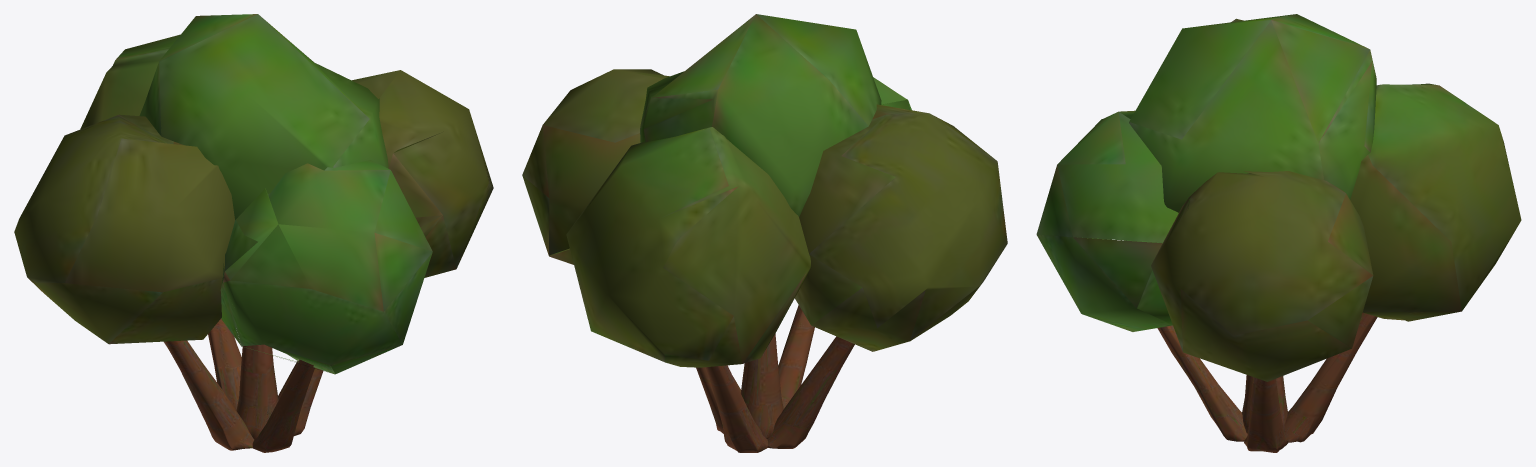
The model's file is 44-bush.glb.
3 views of the same model, side by side, from view 1: azimuth 30°, elevation 25°; view 2: azimuth 150°, elevation 25°; view 3: azimuth 270°, elevation 25° (orthographic).
Visible parts, largest first — view 1: geometry_0; view 2: geometry_0; view 3: geometry_0.
Boxes of the visible parts, x1=… form: geometry_0: x1=14, y1=14, x2=493, y2=452; geometry_0: x1=522, y1=14, x2=1007, y2=452; geometry_0: x1=1036, y1=14, x2=1521, y2=452.
Bounding box in the file's own units: 0.9551 × 0.8692 × 0.9145.
1 material, 1 textured.
